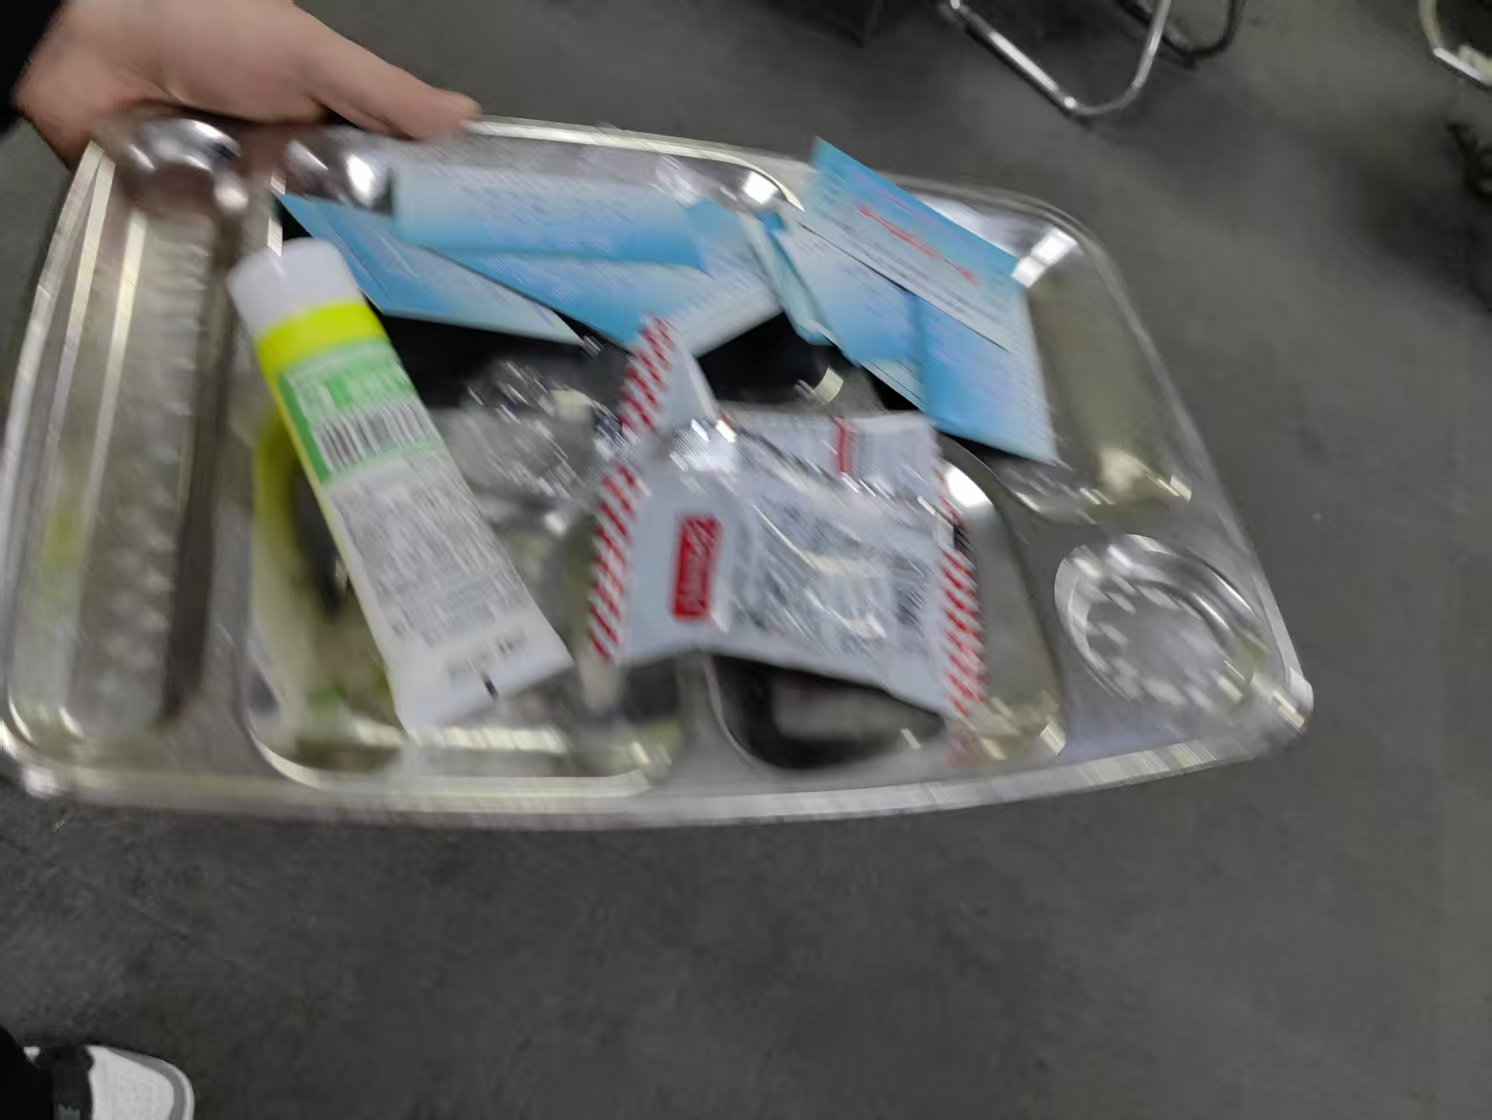plate: (4, 102, 1314, 829)
severe: (228, 132, 1050, 729)
